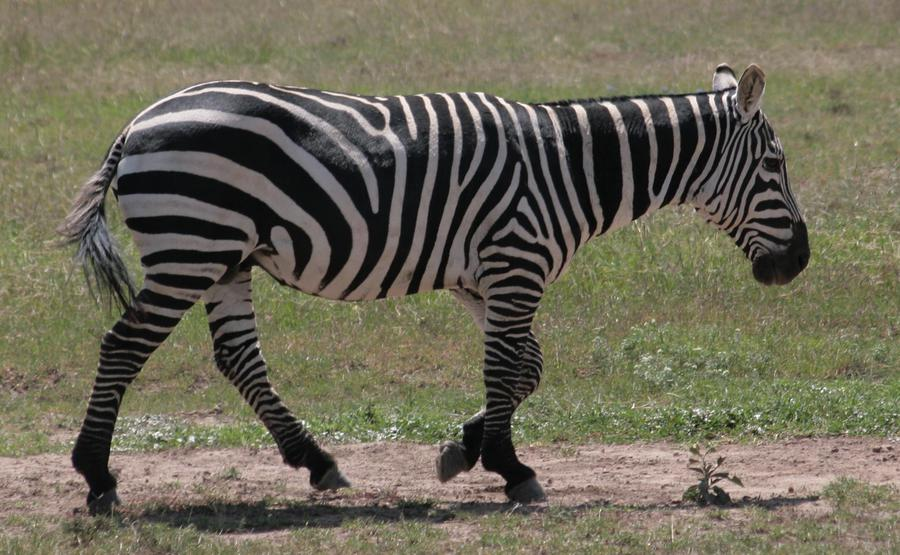zebra_plains: (112, 64, 580, 307)
